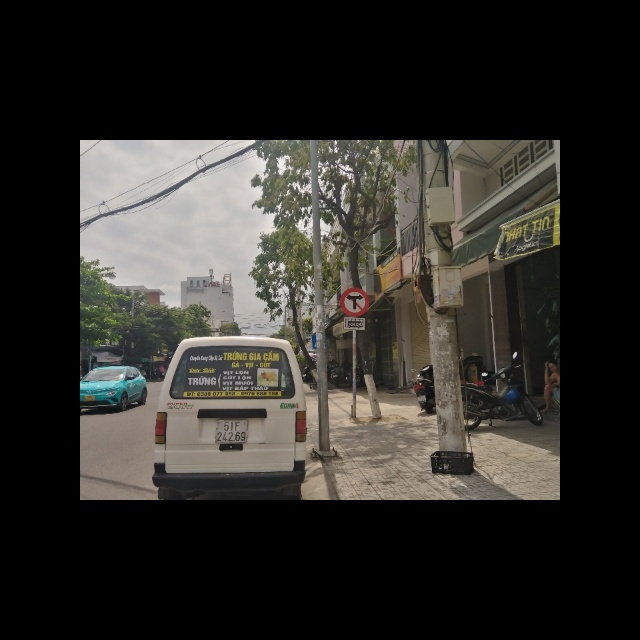Cấm rẽ trái và rẽ phải: (338, 288, 369, 318)
